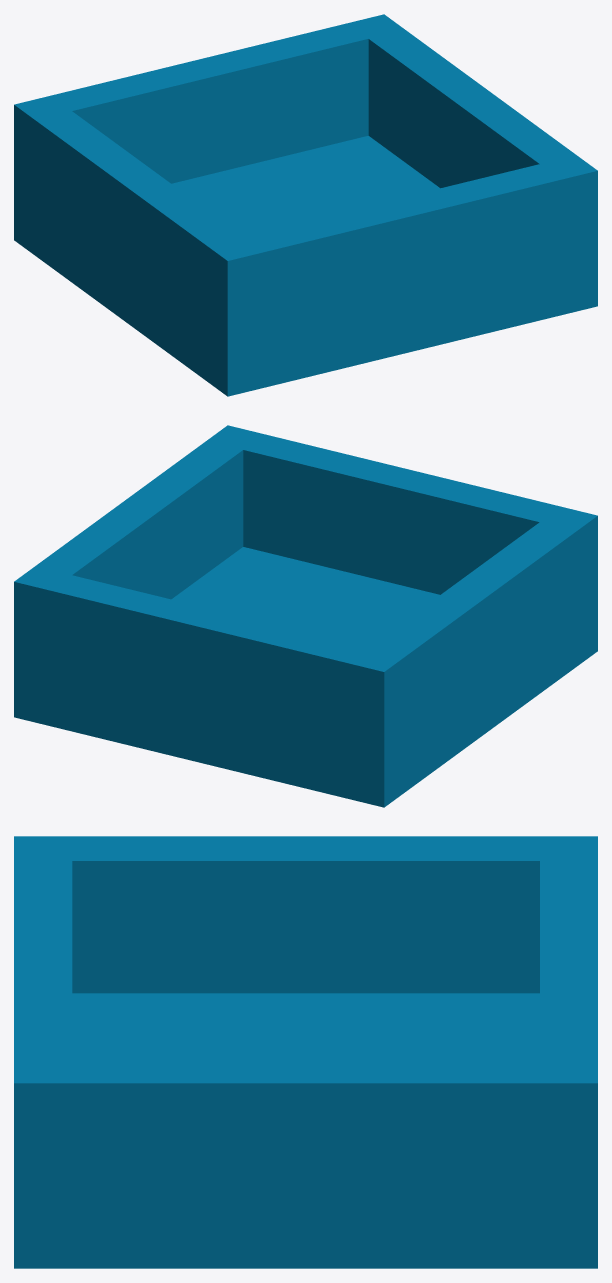
File: BlueRoof_4Edges_Small.glb
The picture shows the model from 3 angles, top to bottom: view 1: azimuth 30°, elevation 25°; view 2: azimuth 150°, elevation 25°; view 3: azimuth 270°, elevation 25°; orthographic projection. The views are drawn at different scales.
Visible parts, largest first — view 1: roof_flat_4Edges_small_blue; view 2: roof_flat_4Edges_small_blue; view 3: roof_flat_4Edges_small_blue.
Part boxes in pixels (x1,y1,x2,y2): roof_flat_4Edges_small_blue: (14,14,597,396); roof_flat_4Edges_small_blue: (14,425,597,807); roof_flat_4Edges_small_blue: (14,836,597,1268).
Size of what is drawn, in the model's own units: 2 by 0.7 by 2.
1 material, 1 textured.
